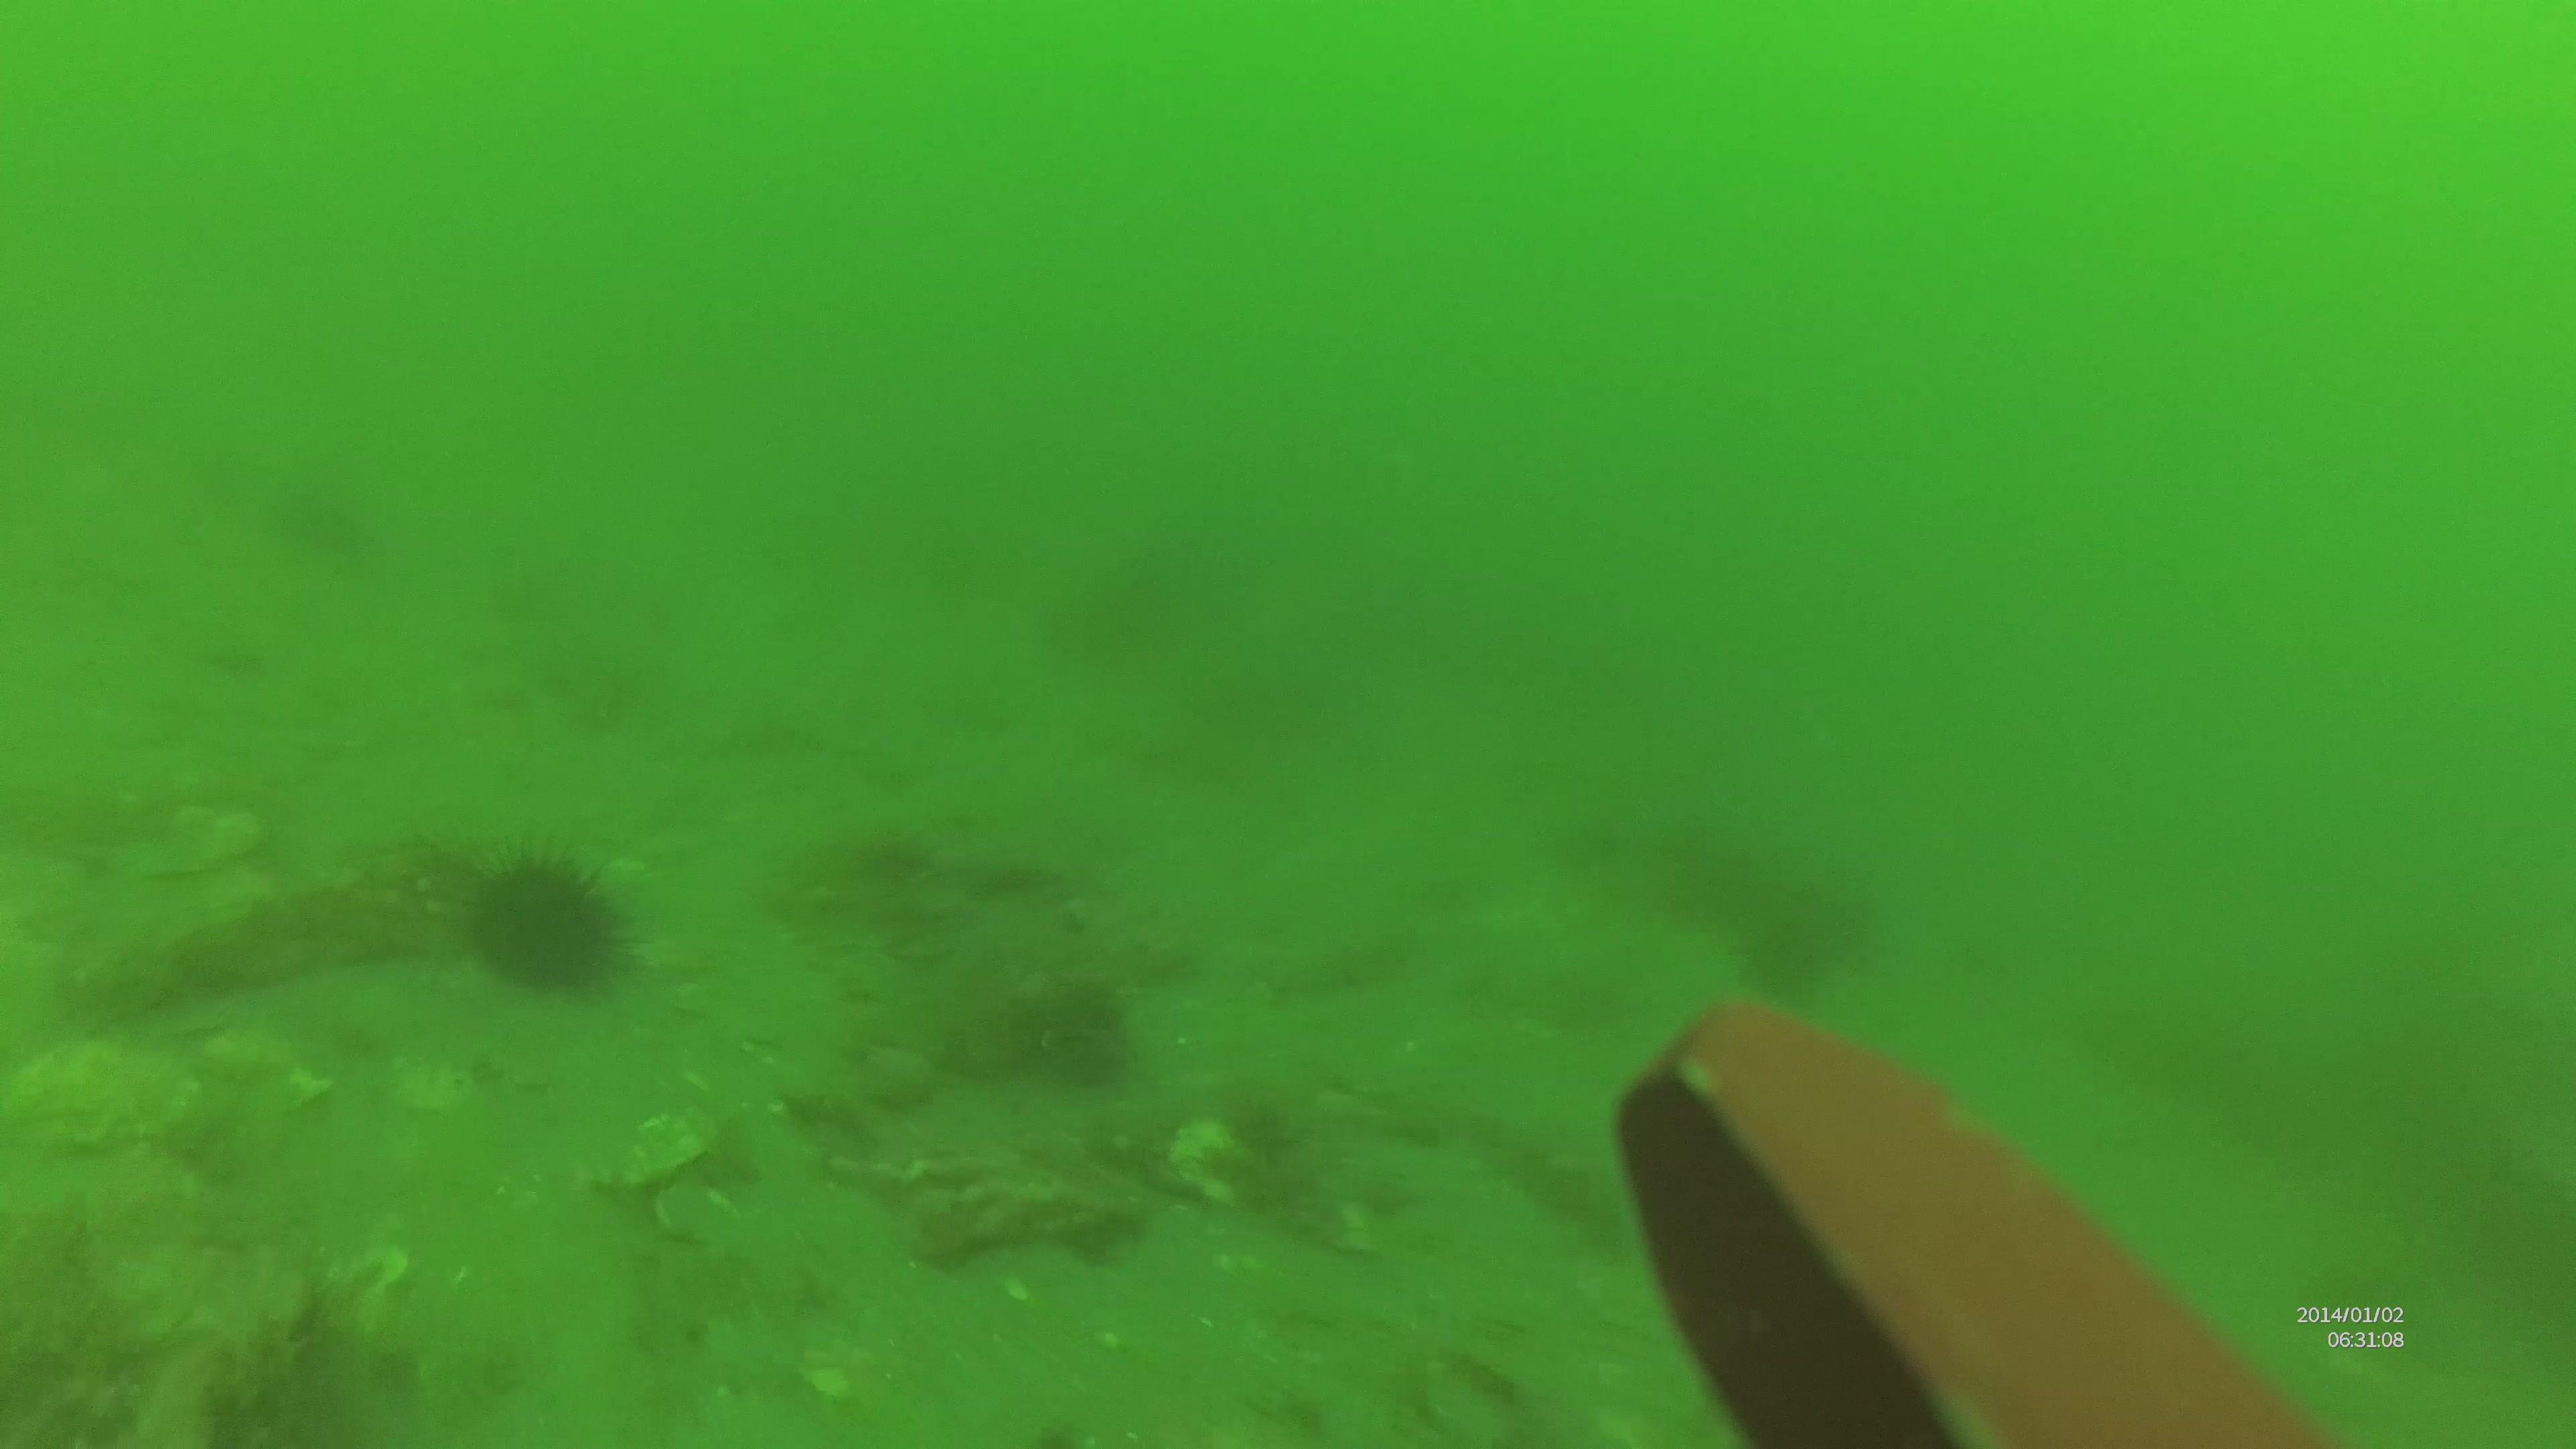echinus: (460, 846, 616, 985)
